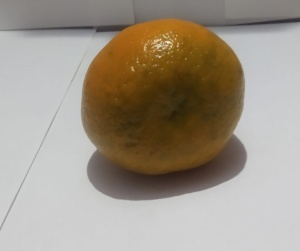BAD: (79, 18, 246, 178)
